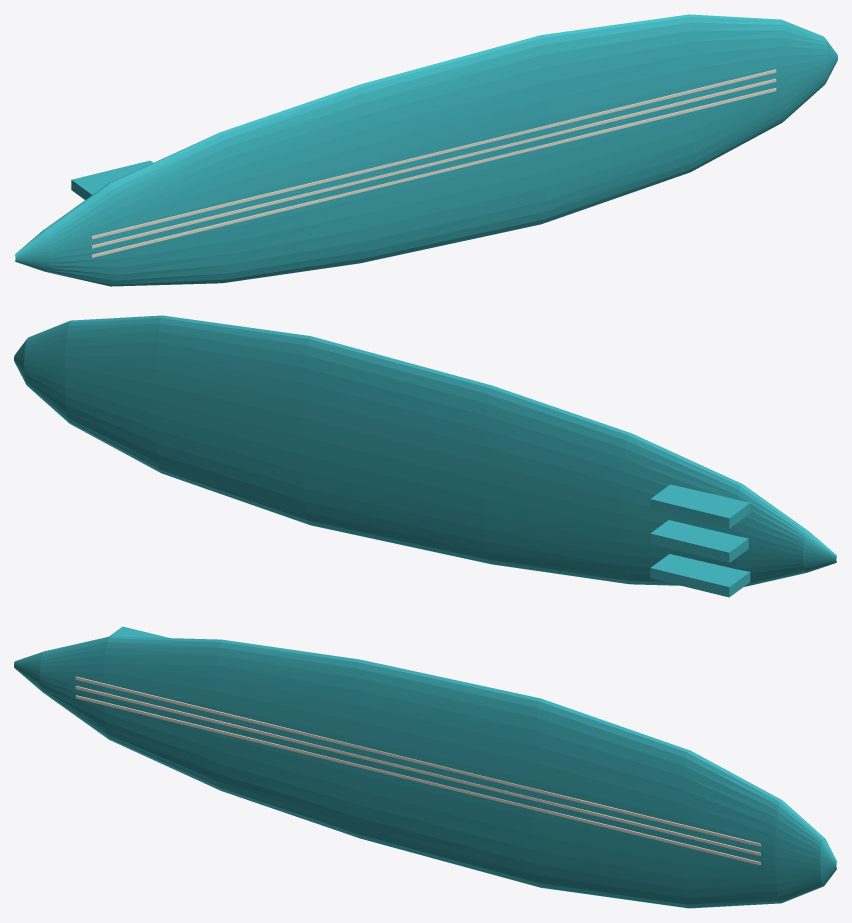
Rendered from gridlock_surfboard.glb.
The picture shows the model from 3 angles, top to bottom: view 1: azimuth 30°, elevation 25°; view 2: azimuth 150°, elevation 25°; view 3: azimuth 330°, elevation 25°; orthographic projection.
Visible parts, largest first — view 1: Surfboard_board, Surfboard_boardstripe; view 2: Surfboard_board; view 3: Surfboard_board, Surfboard_boardstripe.
Part boxes in pixels (left/top/right/bottom): Surfboard_board: left=14, top=14, right=837, bottom=286; Surfboard_boardstripe: left=91, top=69, right=776, bottom=257; Surfboard_board: left=14, top=315, right=836, bottom=597; Surfboard_board: left=14, top=626, right=837, bottom=908; Surfboard_boardstripe: left=75, top=676, right=760, bottom=865.
Bounding box in the file's own units: 250 × 55 × 17.84.
